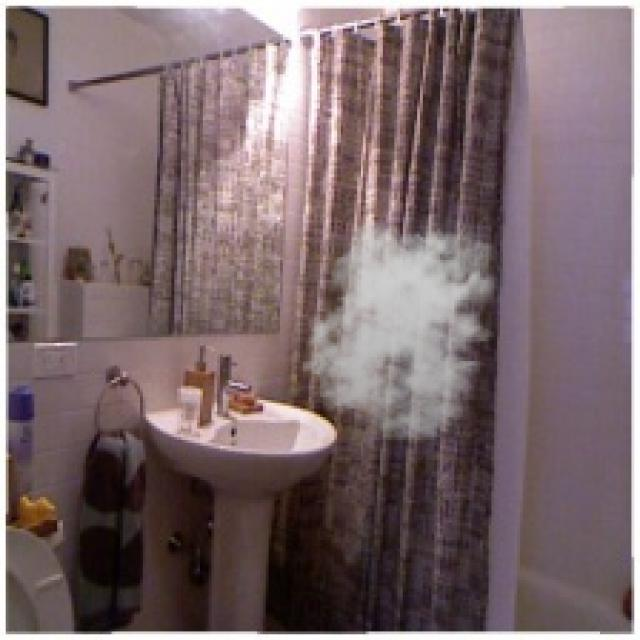smoke: (300, 214, 509, 443)
